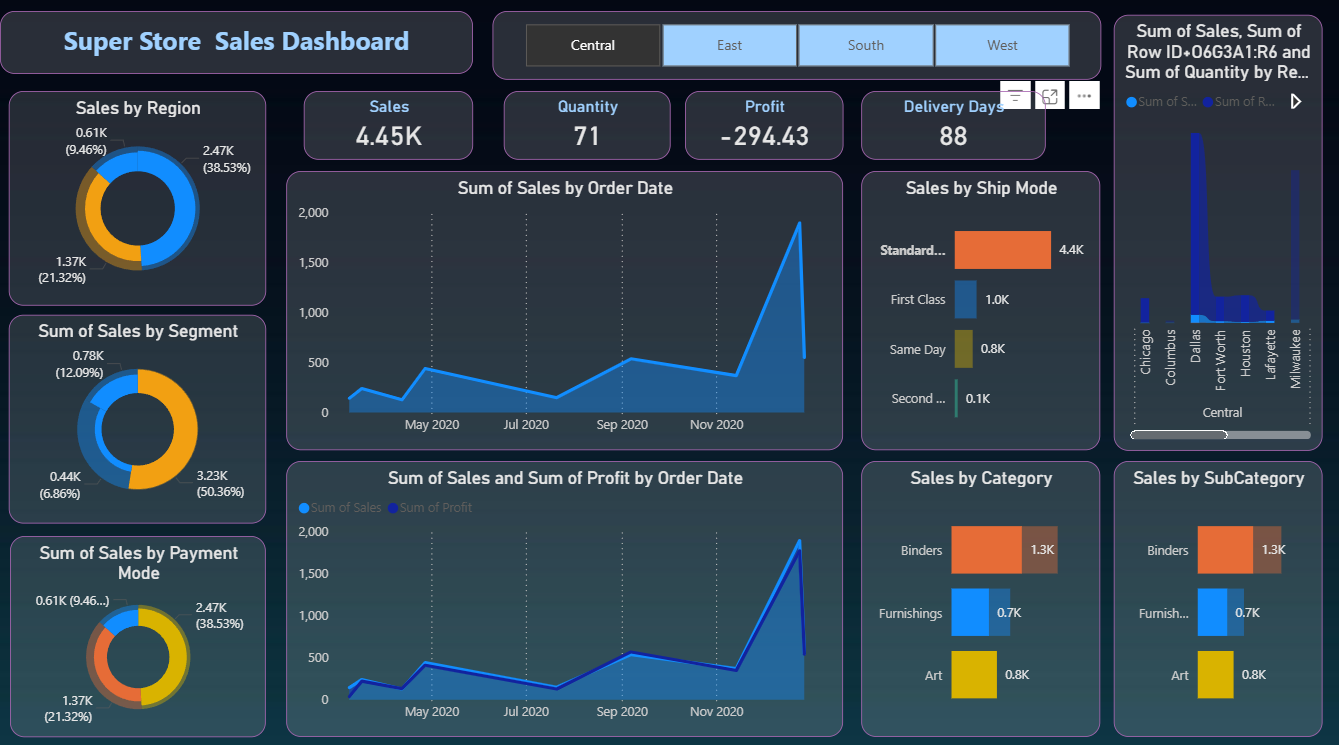

Layout of this report page (visuals, bound fields, positions):
{"tool":"powerbi","page":{"name":"Page 1","canvas":[1280,720],"ordinal":0},"visuals":[{"type":"clusteredBarChart","title":" Sales by Ship Mode","fields":{"Y":["Sum(SuperStore_Sales_Dataset.Sales)"],"Category":["SuperStore_Sales_Dataset.Ship Mode","SuperStore_Sales_Dataset.Category"]},"box":[822,167.4,227.8,266.2],"z":0},{"type":"clusteredBarChart","title":" Sales by SubCategory","fields":{"Y":["Sum(SuperStore_Sales_Dataset.Sales)"],"Category":["SuperStore_Sales_Dataset.Sub-Category"]},"box":[1062.1,443.2,199,263.5],"z":1000},{"type":"stackedAreaChart","fields":{"Category":["SuperStore_Sales_Dataset.Order Date"],"Y":["Sum(SuperStore_Sales_Dataset.Sales)"]},"box":[273.1,167.4,531,266.2],"z":2000},{"type":"stackedAreaChart","fields":{"Category":["SuperStore_Sales_Dataset.Order Date"],"Y":["Sum(SuperStore_Sales_Dataset.Sales)","Sum(SuperStore_Sales_Dataset.Profit)"]},"box":[273.1,443.2,531,263.5],"z":3000},{"type":"donutChart","fields":{"Category":["SuperStore_Sales_Dataset.Segment"],"Y":["Sum(SuperStore_Sales_Dataset.Sales)"]},"box":[8.2,304.6,245.6,199],"z":4000},{"type":"donutChart","fields":{"Category":["SuperStore_Sales_Dataset.Payment Mode","SuperStore_Sales_Dataset.Segment"],"Y":["Sum(SuperStore_Sales_Dataset.Sales)"]},"box":[9.6,514.6,244.3,192.1],"z":5000},{"type":"slicer","fields":{"Values":["SuperStore_Sales_Dataset.Region"]},"box":[469.3,13.7,580.4,65.9],"z":6000},{"type":"textbox","box":[0,13.7,451.5,60.4],"z":7000},{"type":"card","title":"Sales","fields":{"Values":["Sum(SuperStore_Sales_Dataset.Sales)"]},"box":[289.5,90.6,161.9,65.9],"z":8000},{"type":"card","title":"Quantity","fields":{"Values":["Sum(SuperStore_Sales_Dataset.Quantity)"]},"box":[480.3,90.6,159.2,65.9],"z":9000},{"type":"card","title":"Profit","fields":{"Values":["Sum(SuperStore_Sales_Dataset.Profit)"]},"box":[653.2,90.6,150.9,65.9],"z":10000},{"type":"card","title":"Delivery Days","fields":{"Values":["Sum(SuperStore_Sales.Delivery Days)"]},"box":[822,90.6,175.6,65.9],"z":11000},{"type":"donutChart","title":"Sales by Region","fields":{"Category":["SuperStore_Sales.Payment Mode","SuperStore_Sales.Country"],"Y":["Sum(SuperStore_Sales_Dataset.Sales)"],"Series":["SuperStore_Sales.Region"]},"box":[8.2,90.6,245.6,204.5],"z":12000},{"type":"clusteredBarChart","title":" Sales by Category","fields":{"Y":["Sum(SuperStore_Sales_Dataset.Sales)"],"Category":["SuperStore_Sales_Dataset.Sub-Category"]},"box":[822,443.2,227.8,263.5],"z":13000},{"type":"ribbonChart","fields":{"Category":["SuperStore_Sales.Region","SuperStore_Sales.City"],"Y":["Sum(SuperStore_Sales.Sales)","Sum(SuperStore_Sales.Row ID+O6G3A1:R6)","Sum(SuperStore_Sales.Quantity)"]},"box":[1062.1,17.8,199,415.8],"z":14000}]}

Visuals, with their boxes in screenshot pixels (x1, y1, x2, y2), scaled from the page's 1280x720 canvas onto the 1339x745 screenshot:
" Sales by Ship Mode" clusteredBarChart: (left=860, top=173, right=1098, bottom=449)
" Sales by SubCategory" clusteredBarChart: (left=1111, top=459, right=1319, bottom=731)
stackedAreaChart - SuperStore_Sales_Dataset.Order Date x Sum(SuperStore_Sales_Dataset.Sales): (left=286, top=173, right=841, bottom=449)
stackedAreaChart - SuperStore_Sales_Dataset.Order Date x Sum(SuperStore_Sales_Dataset.Sales): (left=286, top=459, right=841, bottom=731)
donutChart - SuperStore_Sales_Dataset.Segment x Sum(SuperStore_Sales_Dataset.Sales): (left=9, top=315, right=265, bottom=521)
donutChart - SuperStore_Sales_Dataset.Payment Mode x SuperStore_Sales_Dataset.Segment: (left=10, top=532, right=266, bottom=731)
slicer - SuperStore_Sales_Dataset.Region: (left=491, top=14, right=1098, bottom=82)
textbox: (left=0, top=14, right=472, bottom=77)
"Sales" card: (left=303, top=94, right=472, bottom=162)
"Quantity" card: (left=502, top=94, right=669, bottom=162)
"Profit" card: (left=683, top=94, right=841, bottom=162)
"Delivery Days" card: (left=860, top=94, right=1044, bottom=162)
"Sales by Region" donutChart: (left=9, top=94, right=265, bottom=305)
" Sales by Category" clusteredBarChart: (left=860, top=459, right=1098, bottom=731)
ribbonChart - SuperStore_Sales.Region x SuperStore_Sales.City: (left=1111, top=18, right=1319, bottom=449)
